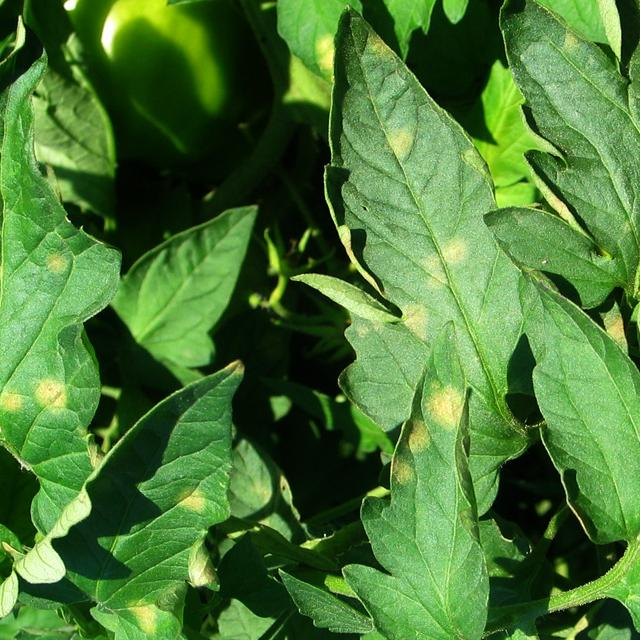Tomato mold leaf: (277, 13, 553, 469), (2, 376, 250, 640), (0, 47, 101, 543), (519, 233, 640, 640), (489, 0, 640, 296), (361, 319, 491, 640)
